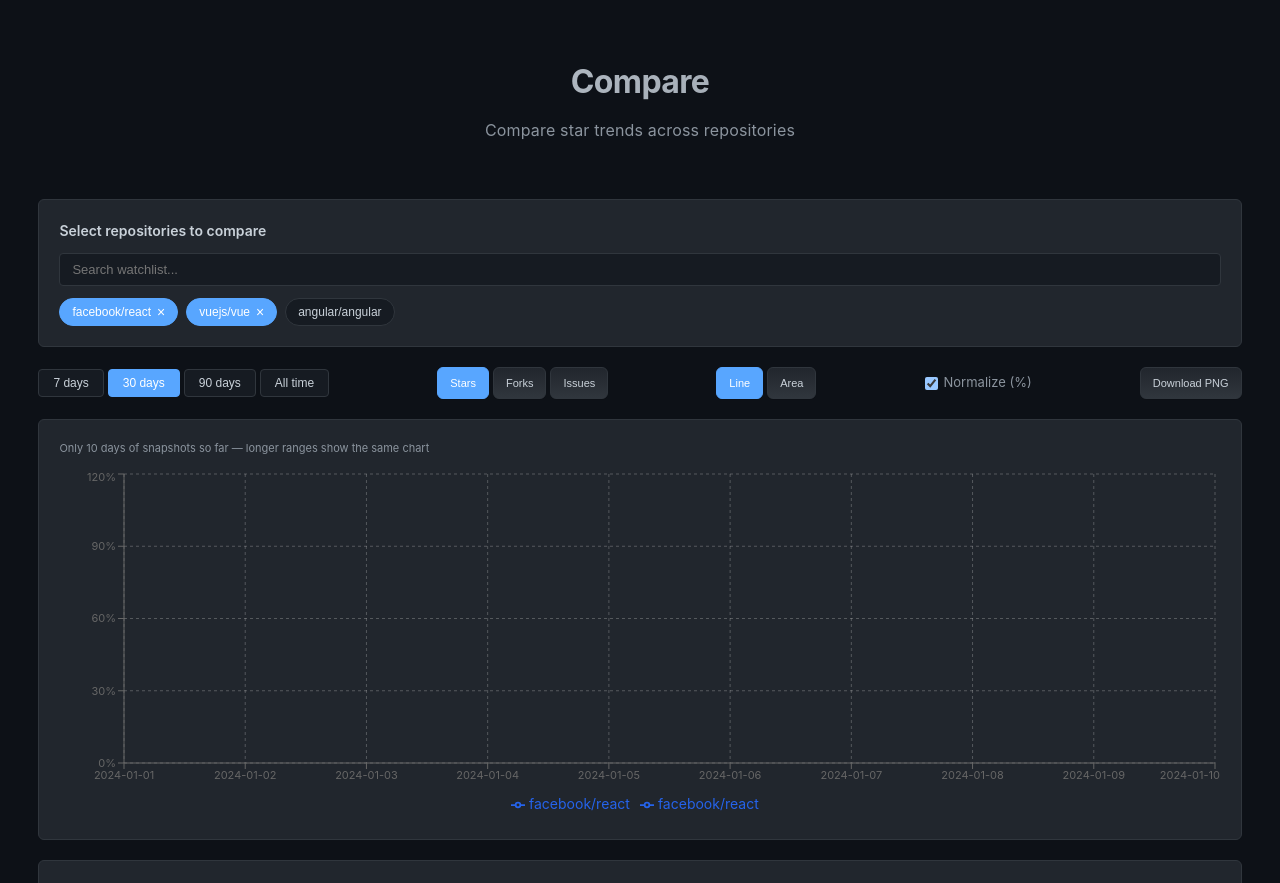
Test case: Compare — 涵蓋天數提示只在需要時出現 › 資料涵蓋滿選定範圍時不提示
Note: 切到 7 天：10 天的資料涵蓋得住，不該提示
Click the button "7 days" at x=71, y=383, box [38,369,104,397]
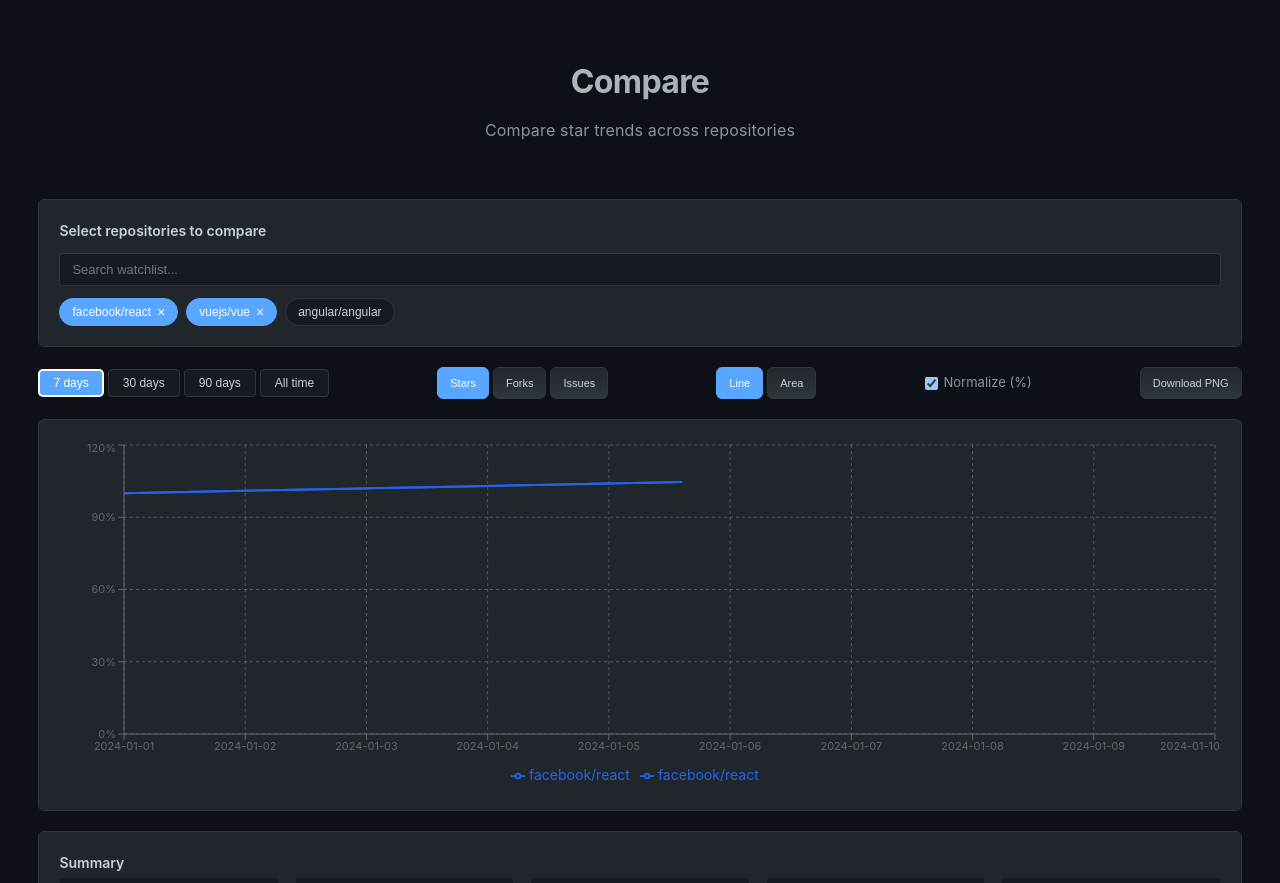
Expected: the text "days of snapshots" is gone
